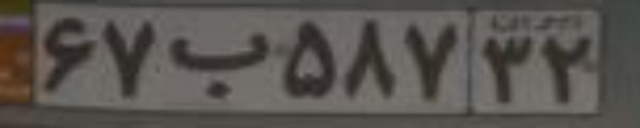2: (539, 36, 589, 103)
3: (480, 35, 532, 103)
5: (279, 21, 334, 97)
6: (40, 17, 91, 93)
7: (401, 20, 460, 101), (104, 19, 154, 97)
8: (340, 21, 396, 99)
be: (168, 31, 269, 98)
